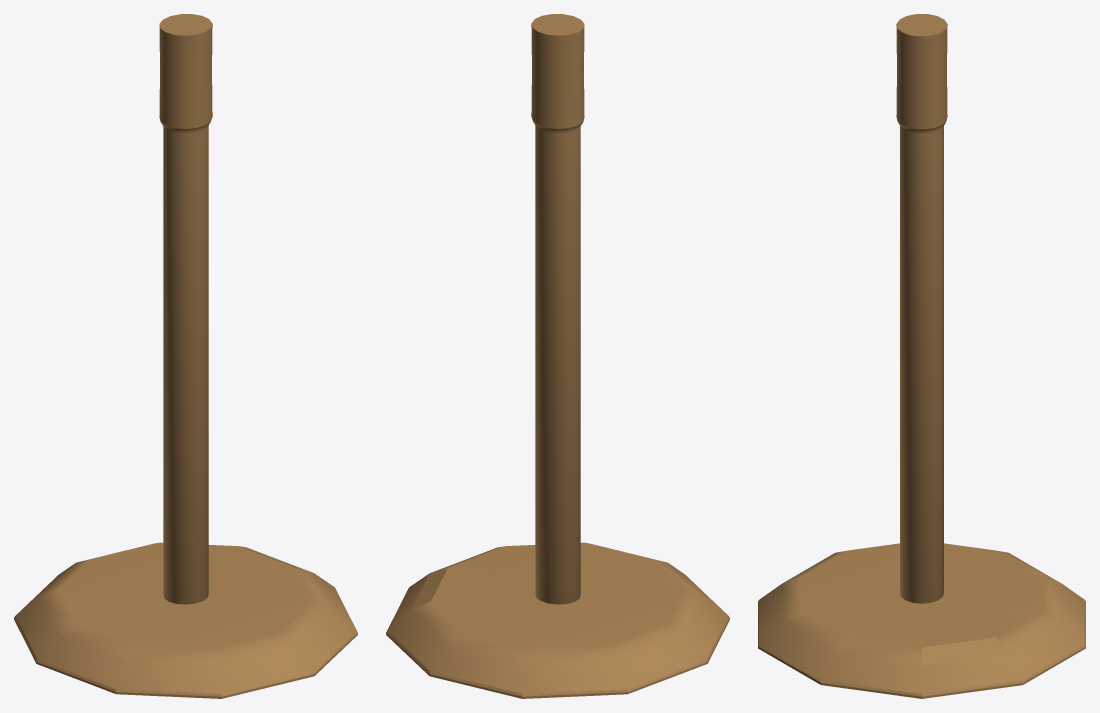
File: SM_Baggage_Rail_01.fbx
3 views of the same model, side by side, from view 1: azimuth 30°, elevation 25°; view 2: azimuth 150°, elevation 25°; view 3: azimuth 270°, elevation 25° (orthographic).
Parts seen in each view (by area): view 1: pCylinder28; view 2: pCylinder28; view 3: pCylinder28.
Boxes of the visible parts, x1,y1,x2,y2 form: pCylinder28: (14,14,357,698); pCylinder28: (386,14,729,698); pCylinder28: (758,14,1085,698).
Bounding box in the file's own units: 0.5252 × 1.01 × 0.4995.
